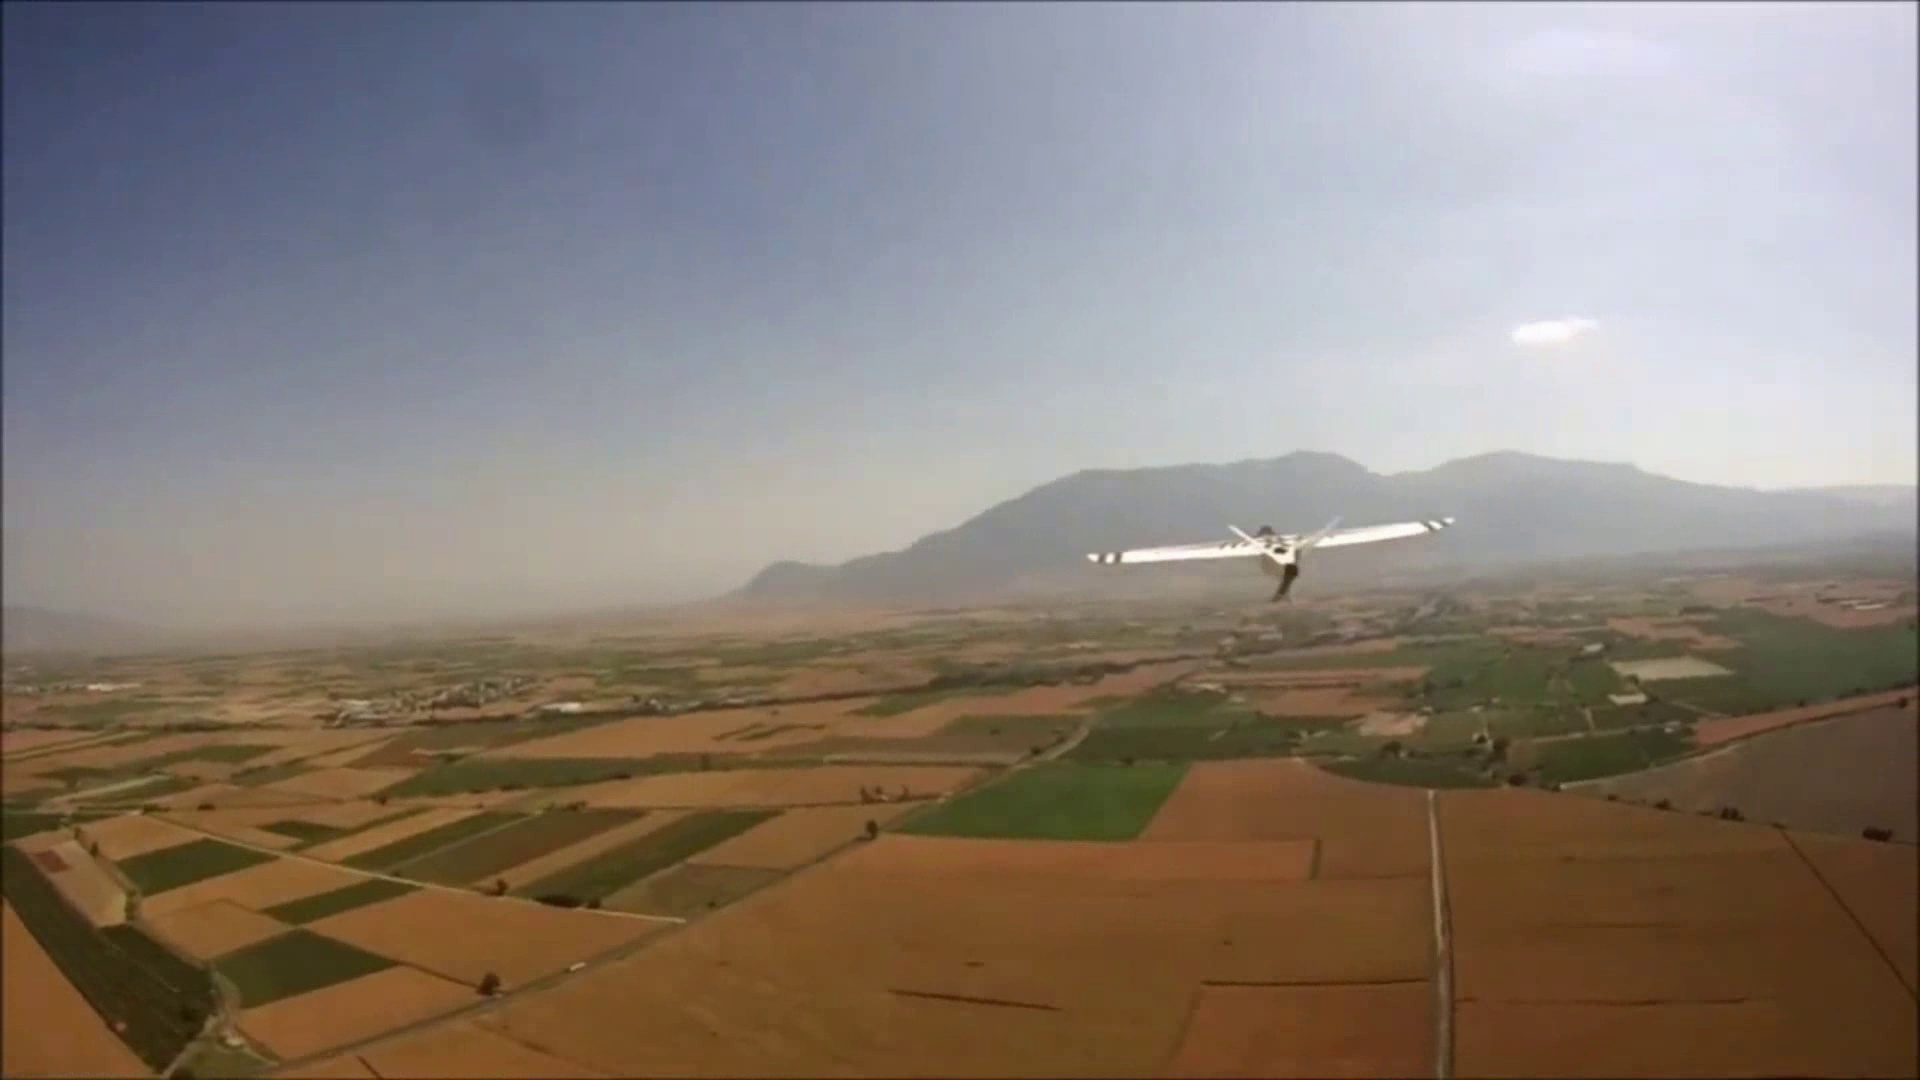airplane: (1087, 511, 1454, 600)
